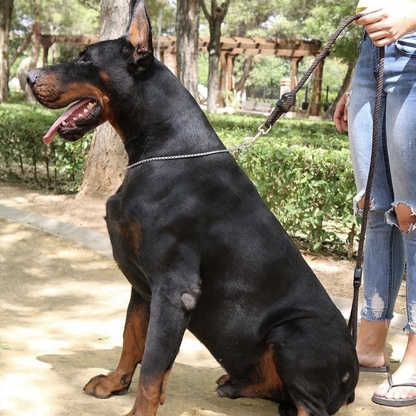doberman: (21, 6, 364, 416)
